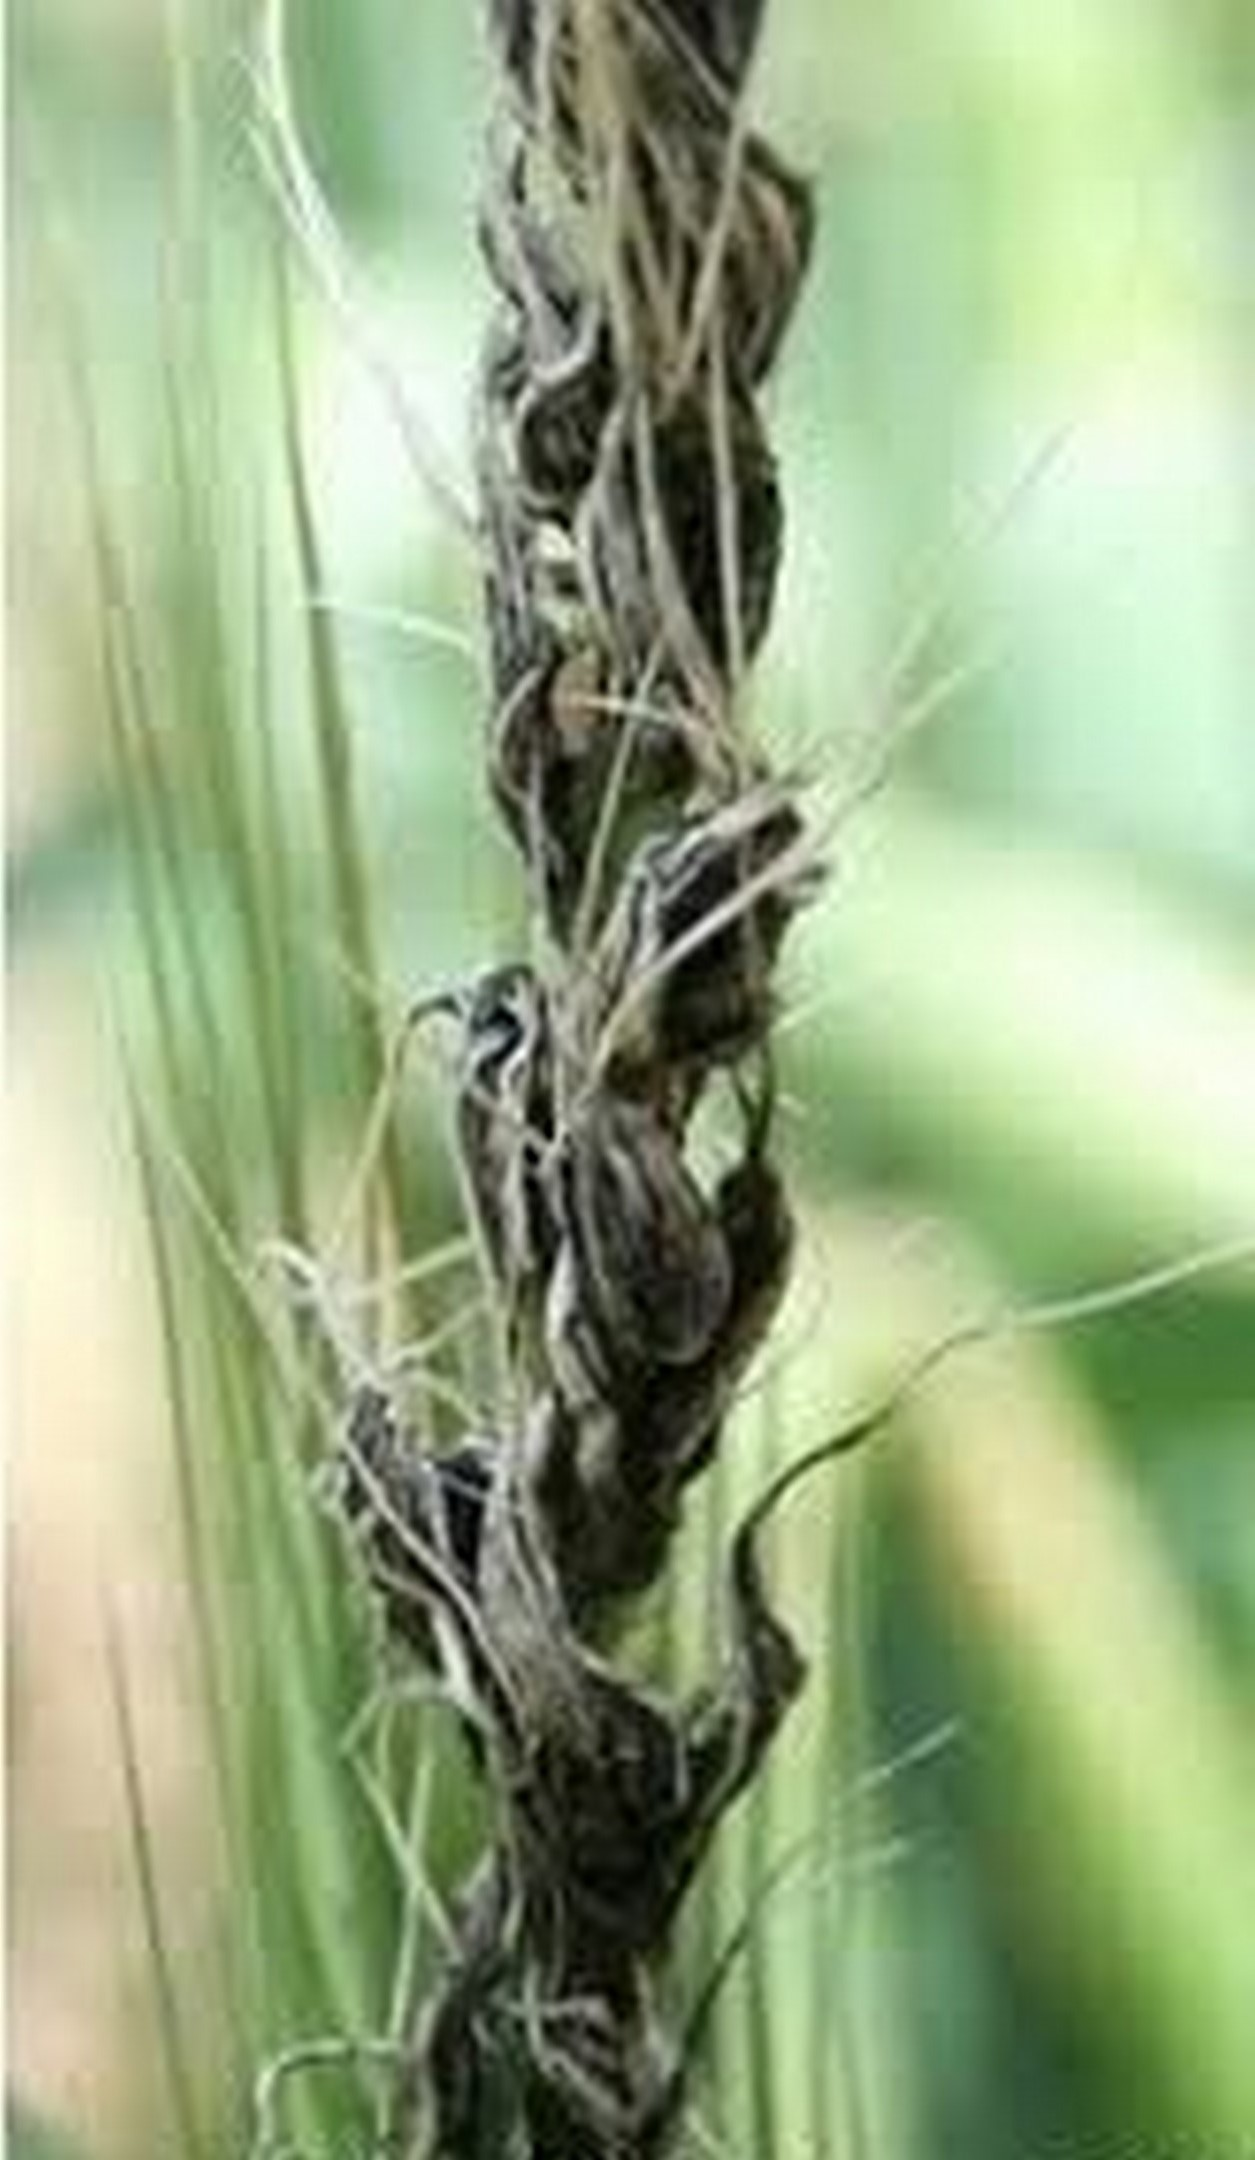Wheat Loose Smut: (320, 4, 938, 1922)
